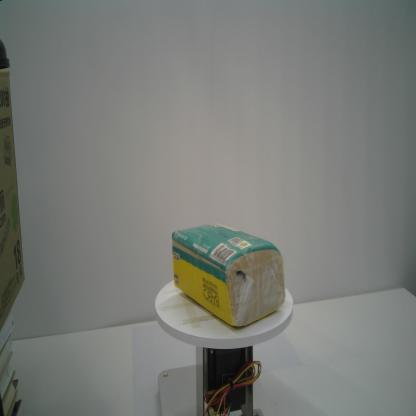Tissue: (170, 220, 286, 330)
